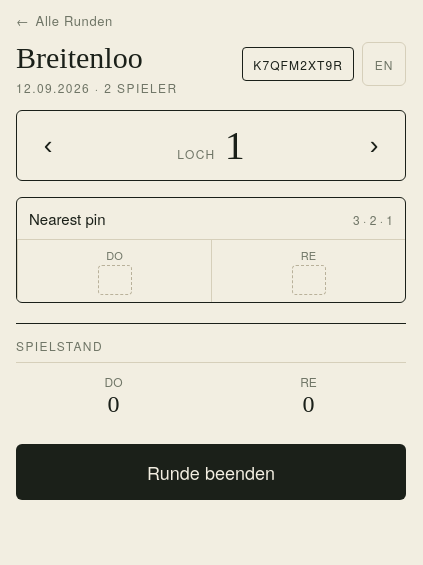
LiveRound in German › shows the German save label for a challenge
This screenshot has width=423, height=565.
Click the button with test id "cell-c1-p1" at (114, 270), box 17,240 -> 211,302
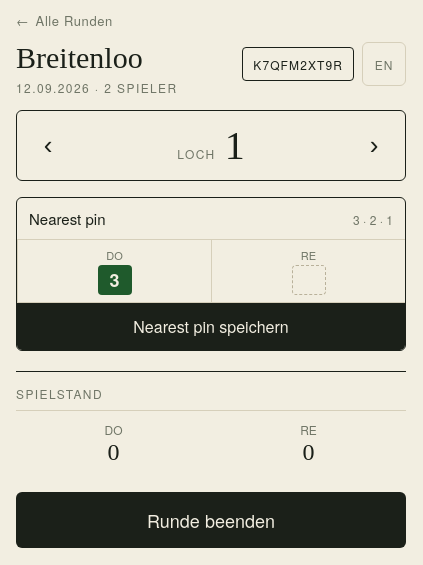
Expected: the button with test id "save-c1" shows "speichern", 17,302 -> 405,350
